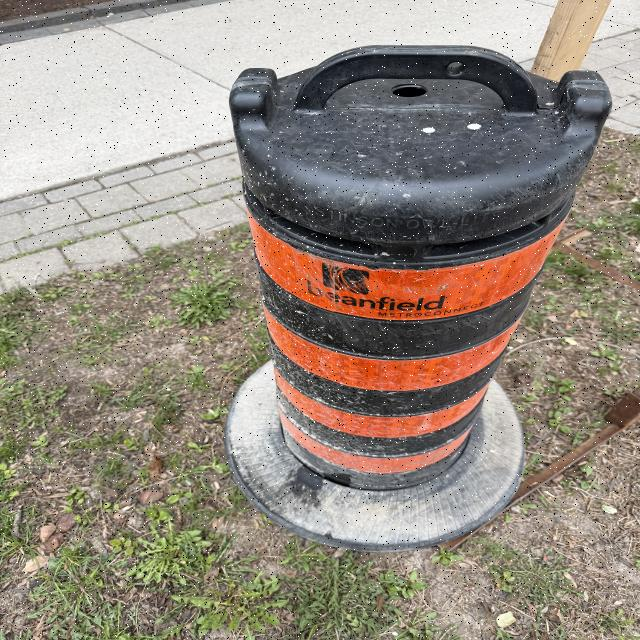Teraffic Barrel: (227, 46, 610, 548)
